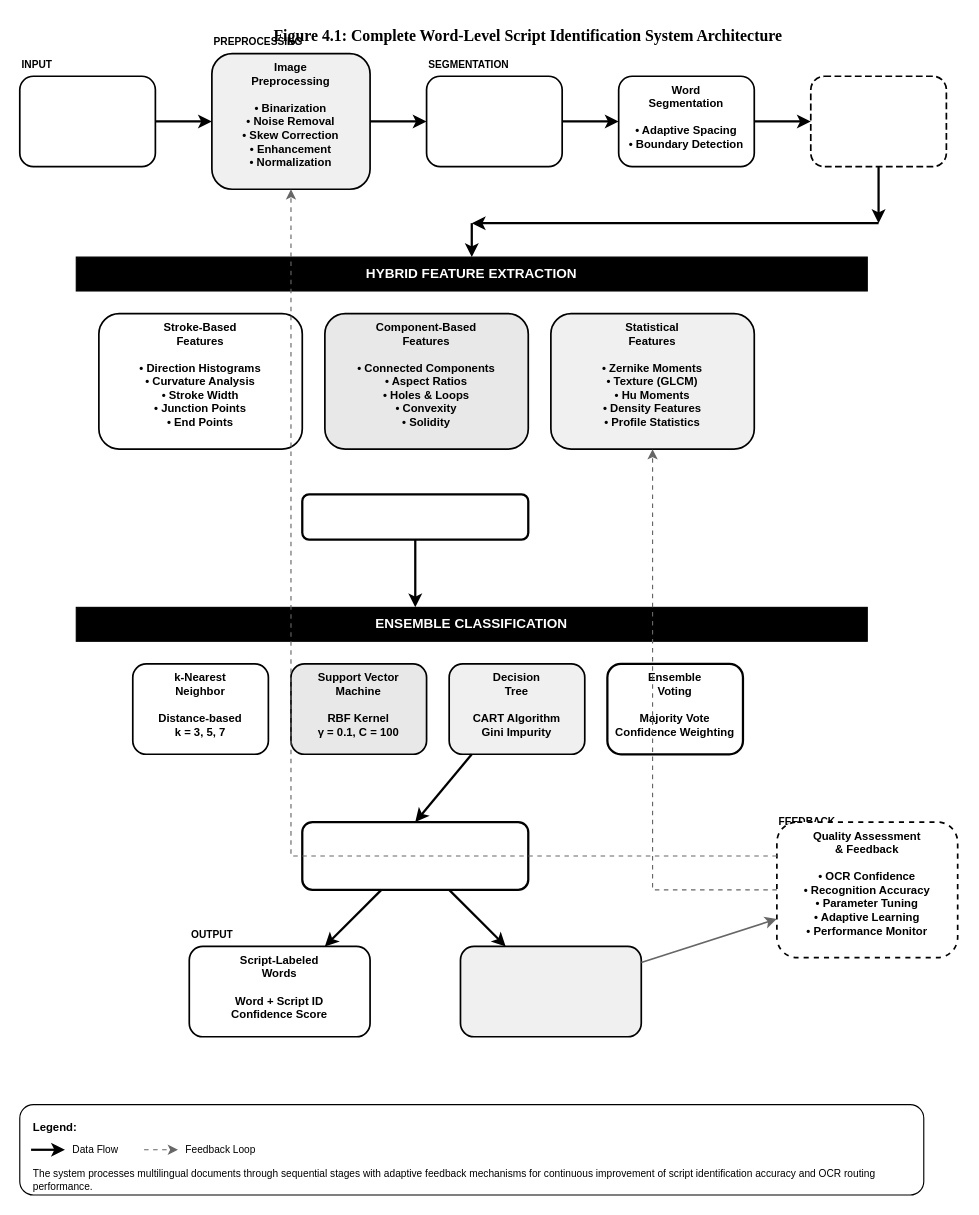
Image size: 979x1215. Some labels were removed from this diagram. The centre of each missing label's shape, as x and y in pixels:
"Combined Feature Vector [f₁, f₂, ..., fₙ]" belongs at point (415, 516).
"Document Images • Scanners • Cameras • Repositories" belongs at point (87, 121).
"Individual Words Word Segments Ready for Analysis" belongs at point (878, 121).
"Line Segmentation • Projection Profile • Heuristics" belongs at point (494, 121).
"OCR Engine Routing Tesseract Engines Custom Recognizers" belongs at point (550, 991).
"Script Classification English | Devanagari | Tamil Kannada | Bengali | Telugu" belongs at point (415, 855).
